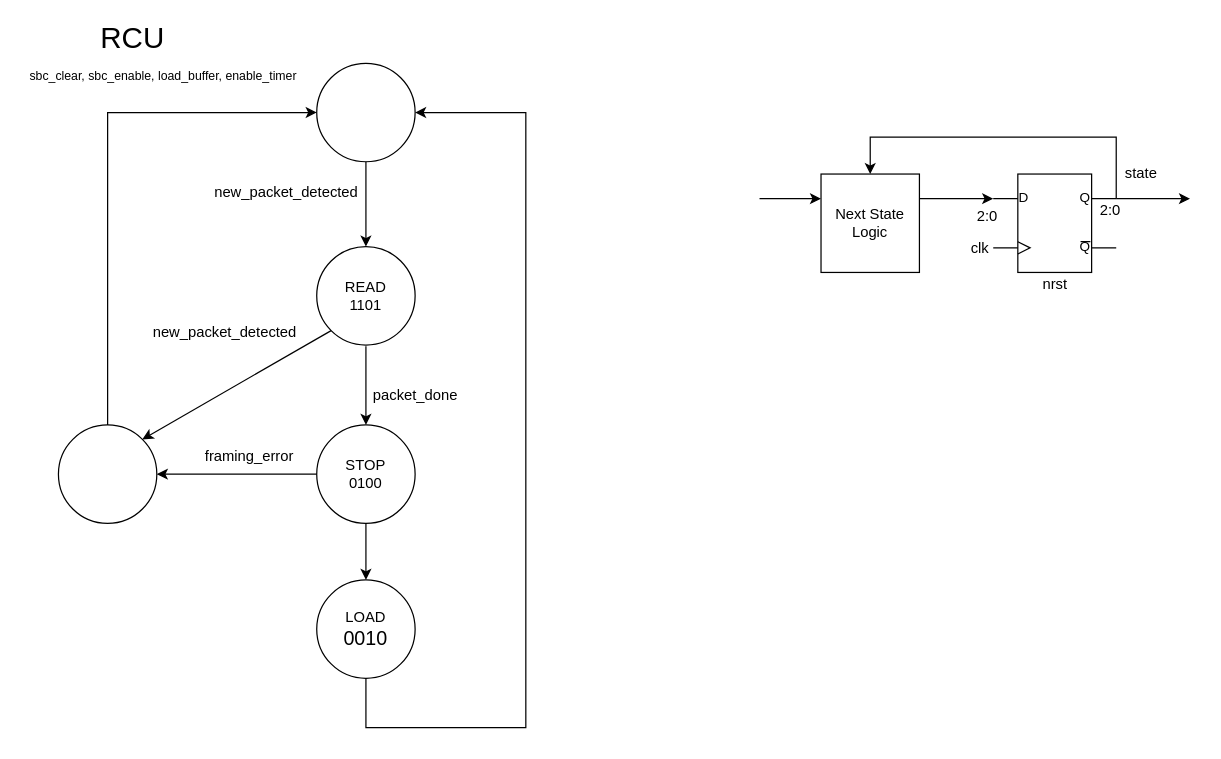
Some shapes in this 1221 by 759 pixel diagram are drawn without their labels. The shapes that lost their labels are listed below. From the top down, each one's centre as x and y in pixels, then its label:
the point at 365,112: IDLE 0000
the point at 107,473: ERROR 0000
